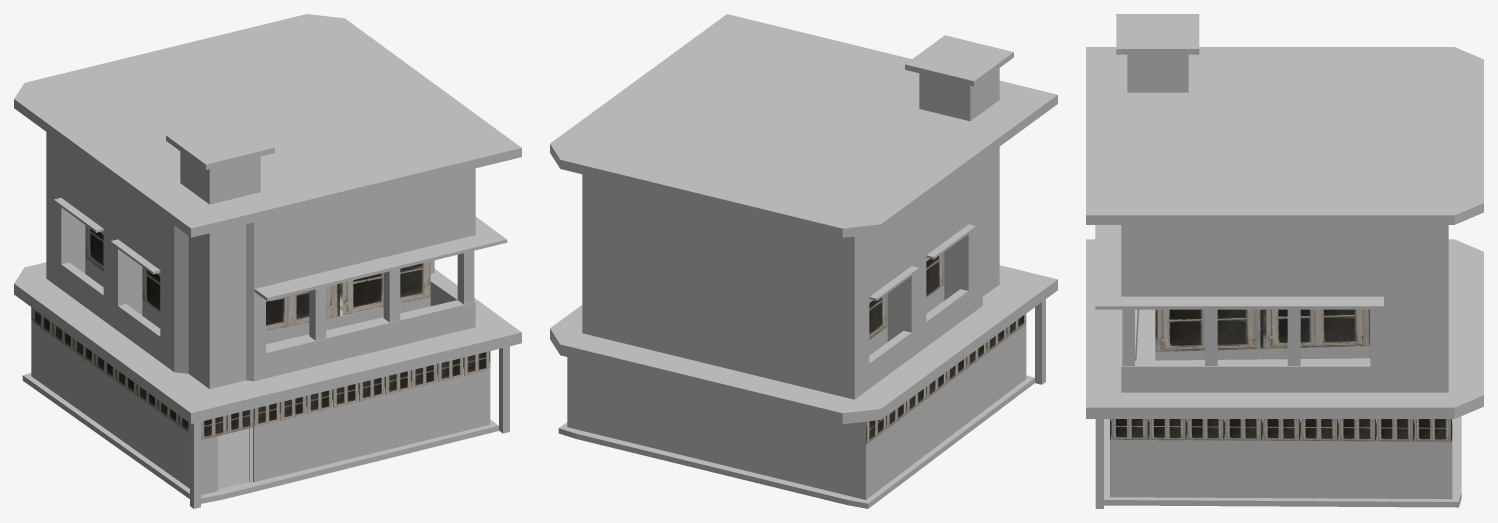
Rendered from Motel.fbx_Collection.fbx.
3 views of the same model, side by side, from view 1: azimuth 30°, elevation 25°; view 2: azimuth 150°, elevation 25°; view 3: azimuth 270°, elevation 25° (orthographic). The views are drawn at different scales.
Visible parts, largest first — view 1: Cube.003, Cube, Cube.009, Cube.001, Cube.002, Cube.004, Cube.007, Cube.008; view 2: Cube.003, Cube, Cube.009, Cube.001, Cube.002, Cube.008; view 3: Cube.003, Cube, Cube.009, Cube.001, Cube.004, Cube.002, Cube.007, Cube.008.
Boxes of the visible parts, <box> form: Cube.003: <box>14,14,521,237</box>; Cube: <box>46,132,475,381</box>; Cube.009: <box>22,307,498,503</box>; Cube.001: <box>14,262,521,423</box>; Cube.002: <box>166,118,274,388</box>; Cube.004: <box>254,217,507,300</box>; Cube.007: <box>309,251,474,340</box>; Cube.008: <box>190,346,509,508</box>; Cube.003: <box>550,14,1057,237</box>; Cube: <box>582,159,982,399</box>; Cube.009: <box>558,314,1034,508</box>; Cube.001: <box>550,265,1057,424</box>; Cube.002: <box>905,35,1013,296</box>; Cube.008: <box>1035,299,1045,384</box>; Cube.003: <box>1086,47,1483,224</box>; Cube: <box>1121,225,1448,392</box>; Cube.009: <box>1104,416,1461,507</box>; Cube.001: <box>1086,239,1483,418</box>; Cube.004: <box>1095,225,1383,309</box>; Cube.002: <box>1116,14,1199,92</box>; Cube.007: <box>1122,309,1300,365</box>; Cube.008: <box>1095,419,1103,508</box>.
Bounding box in the file's own units: 243 × 233 × 243.
